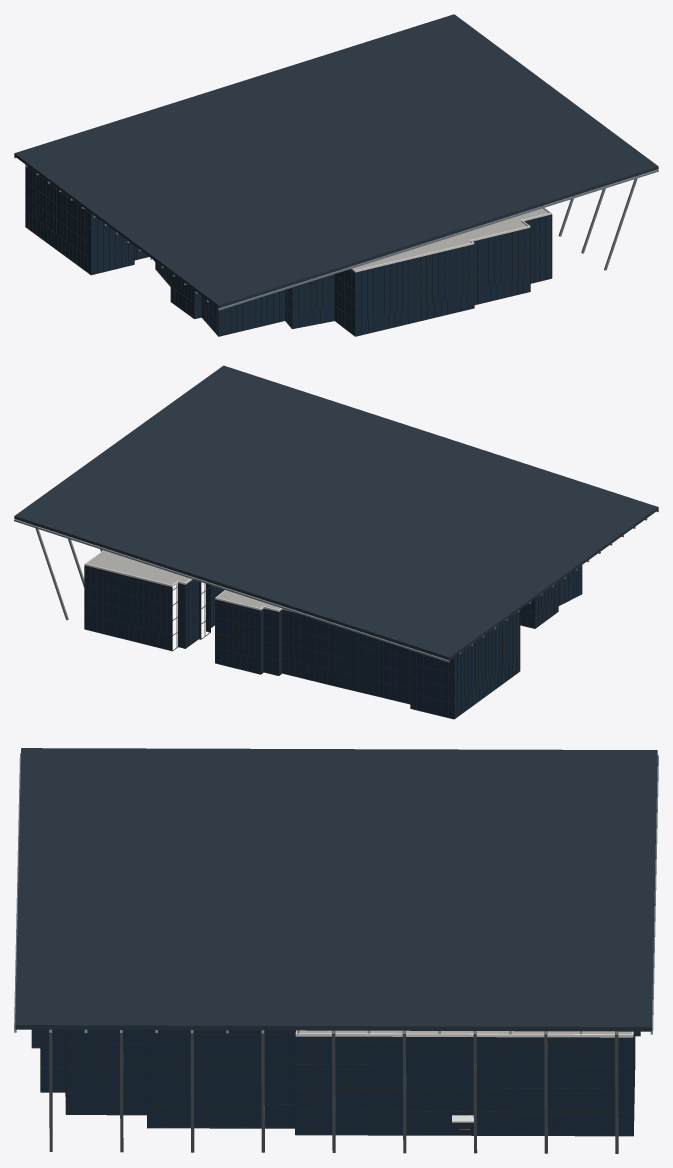
File: edith_o_donnell_arts_technology_building.glb
3 renders of one model, top to bottom at view 1: azimuth 30°, elevation 25°; view 2: azimuth 150°, elevation 25°; view 3: azimuth 270°, elevation 25°, orthographic. The views are drawn at different scales.
Visible parts, largest first — view 1: edith_o_donnell_arts_technology_building_Roof_Metal, edith_o_donnell_arts_technology_building_Glass_darkBlue, edith_o_donnell_arts_technology_building_Frame_Dark, edith_o_donnell_arts_technology_building_Steel_Beam, edith_o_donnell_arts_technology_building_Roof_Membrane, edith_o_donnell_arts_technology_building_Wall_whiteStucco; view 2: edith_o_donnell_arts_technology_building_Roof_Metal, edith_o_donnell_arts_technology_building_Glass_darkBlue, edith_o_donnell_arts_technology_building_Frame_Dark, edith_o_donnell_arts_technology_building_Steel_Beam, edith_o_donnell_arts_technology_building_Roof_Membrane, edith_o_donnell_arts_technology_building_Wall_whiteStucco; view 3: edith_o_donnell_arts_technology_building_Roof_Metal, edith_o_donnell_arts_technology_building_Glass_darkBlue, edith_o_donnell_arts_technology_building_Frame_Dark, edith_o_donnell_arts_technology_building_Steel_Beam, edith_o_donnell_arts_technology_building_Wall_whiteStucco, edith_o_donnell_arts_technology_building_Roof_Membrane.
Boxes of the visible parts, x1=… form: edith_o_donnell_arts_technology_building_Roof_Metal: x1=14, y1=14, x2=658, y2=308; edith_o_donnell_arts_technology_building_Glass_darkBlue: x1=26, y1=166, x2=551, y2=335; edith_o_donnell_arts_technology_building_Frame_Dark: x1=25, y1=164, x2=552, y2=336; edith_o_donnell_arts_technology_building_Steel_Beam: x1=14, y1=156, x2=658, y2=310; edith_o_donnell_arts_technology_building_Roof_Membrane: x1=352, y1=208, x2=547, y2=269; edith_o_donnell_arts_technology_building_Wall_whiteStucco: x1=351, y1=207, x2=551, y2=272; edith_o_donnell_arts_technology_building_Roof_Metal: x1=14, y1=365, x2=658, y2=660; edith_o_donnell_arts_technology_building_Glass_darkBlue: x1=85, y1=565, x2=581, y2=718; edith_o_donnell_arts_technology_building_Frame_Dark: x1=84, y1=565, x2=582, y2=719; edith_o_donnell_arts_technology_building_Steel_Beam: x1=14, y1=510, x2=658, y2=662; edith_o_donnell_arts_technology_building_Roof_Membrane: x1=88, y1=551, x2=279, y2=609; edith_o_donnell_arts_technology_building_Wall_whiteStucco: x1=84, y1=550, x2=293, y2=612; edith_o_donnell_arts_technology_building_Roof_Metal: x1=15, y1=748, x2=657, y2=1031; edith_o_donnell_arts_technology_building_Glass_darkBlue: x1=32, y1=1029, x2=639, y2=1135; edith_o_donnell_arts_technology_building_Frame_Dark: x1=31, y1=1029, x2=640, y2=1136; edith_o_donnell_arts_technology_building_Steel_Beam: x1=14, y1=753, x2=658, y2=1153; edith_o_donnell_arts_technology_building_Wall_whiteStucco: x1=295, y1=1030, x2=633, y2=1037; edith_o_donnell_arts_technology_building_Roof_Membrane: x1=299, y1=1030, x2=631, y2=1034.
Bounding box in the file's own units: 110 × 24.38 × 90.39.
